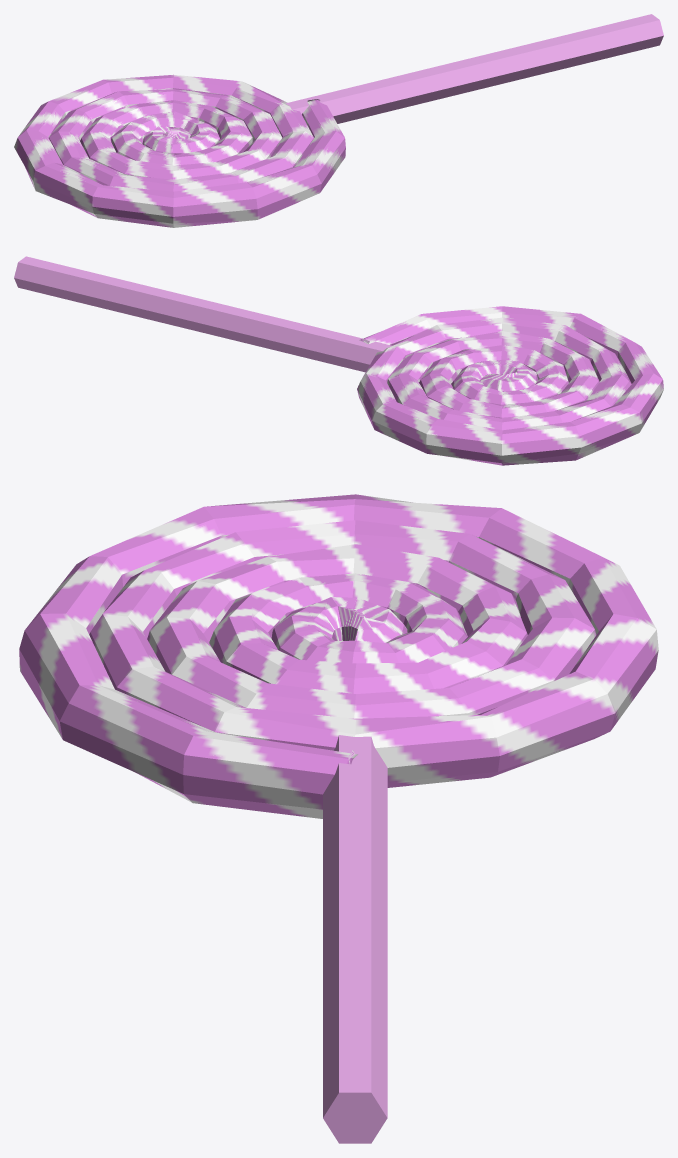
File: LizakRóżowy.fbx
3 renders of one model, top to bottom at view 1: azimuth 30°, elevation 25°; view 2: azimuth 150°, elevation 25°; view 3: azimuth 270°, elevation 25°, orthographic. The views are drawn at different scales.
Visible parts, largest first — view 1: LizakRóżowy; view 2: LizakRóżowy; view 3: LizakRóżowy.
Boxes of the visible parts, x1,y1,x2,y2 form: LizakRóżowy: [14, 14, 663, 227]; LizakRóżowy: [14, 256, 663, 465]; LizakRóżowy: [19, 494, 658, 1143].
Size of the model in its own units: 502 by 27.96 by 224.
Materials: 2 (1 with a texture image).
